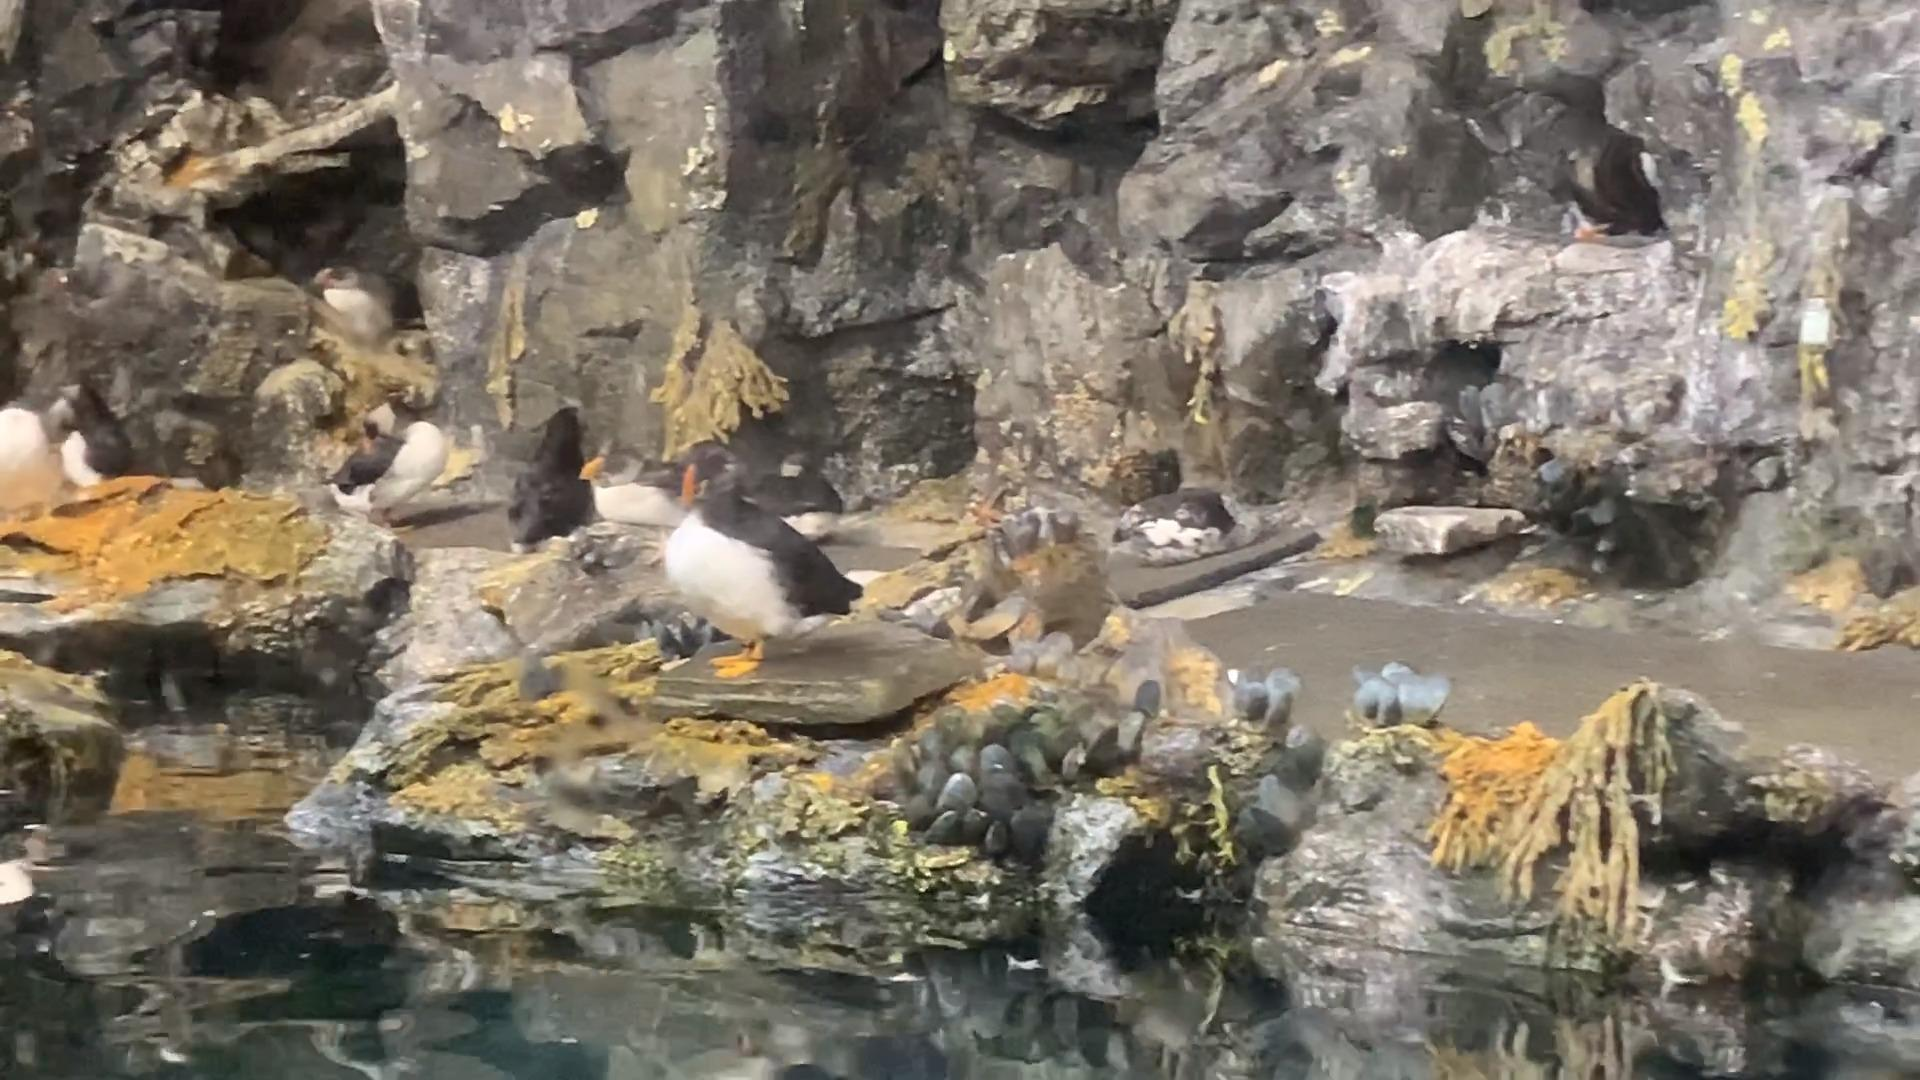puffin: (659, 440, 868, 682), (334, 400, 448, 522), (504, 407, 593, 545), (1551, 129, 1659, 243), (578, 442, 688, 527), (764, 454, 843, 538)
